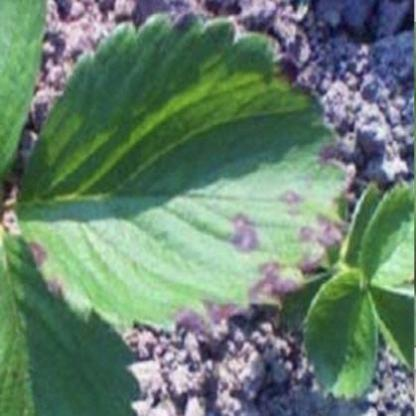Strawberry_Leaf_Spot: (12, 8, 359, 335)
